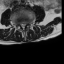CCS_normal: (22, 21, 24, 32)
LFS_severe_stenosis: (26, 21, 28, 26)
LLS_stenosis: (24, 21, 26, 28)
RFS_severe_stenosis: (17, 21, 20, 27)
RLS_stenosis: (20, 21, 22, 28)
